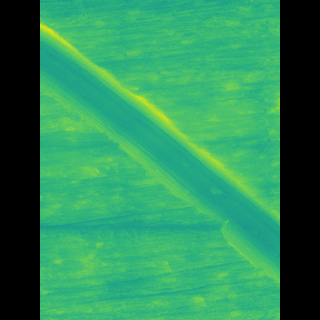Loch: (68, 22, 250, 285)
